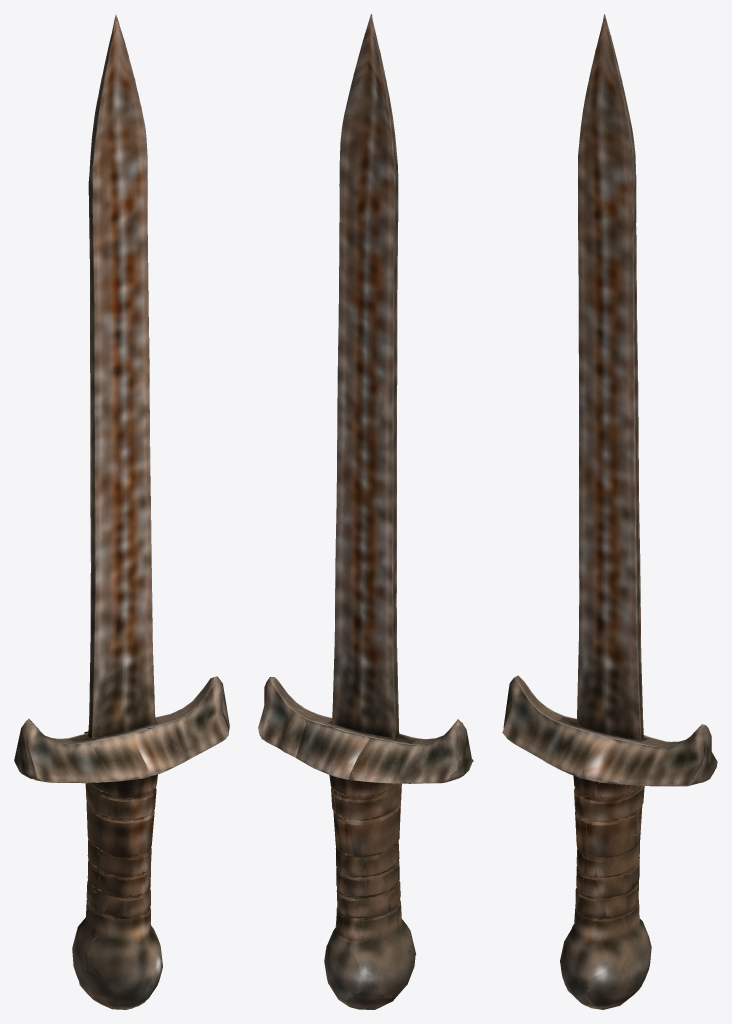
Rendered from rusty_sword.glb.
3 views of the same model, side by side, from view 1: azimuth 30°, elevation 25°; view 2: azimuth 150°, elevation 25°; view 3: azimuth 330°, elevation 25° (orthographic).
Parts seen in each view (by area): view 1: rusty_sword; view 2: rusty_sword; view 3: rusty_sword.
Boxes of the visible parts, x1,y1,x2,y2 form: rusty_sword: (14, 14, 229, 1009); rusty_sword: (258, 14, 473, 1009); rusty_sword: (502, 14, 717, 1009).
Size of the model in its own units: 0.2199 by 1.04 by 0.1047.
Materials: 1 (1 with a texture image).
